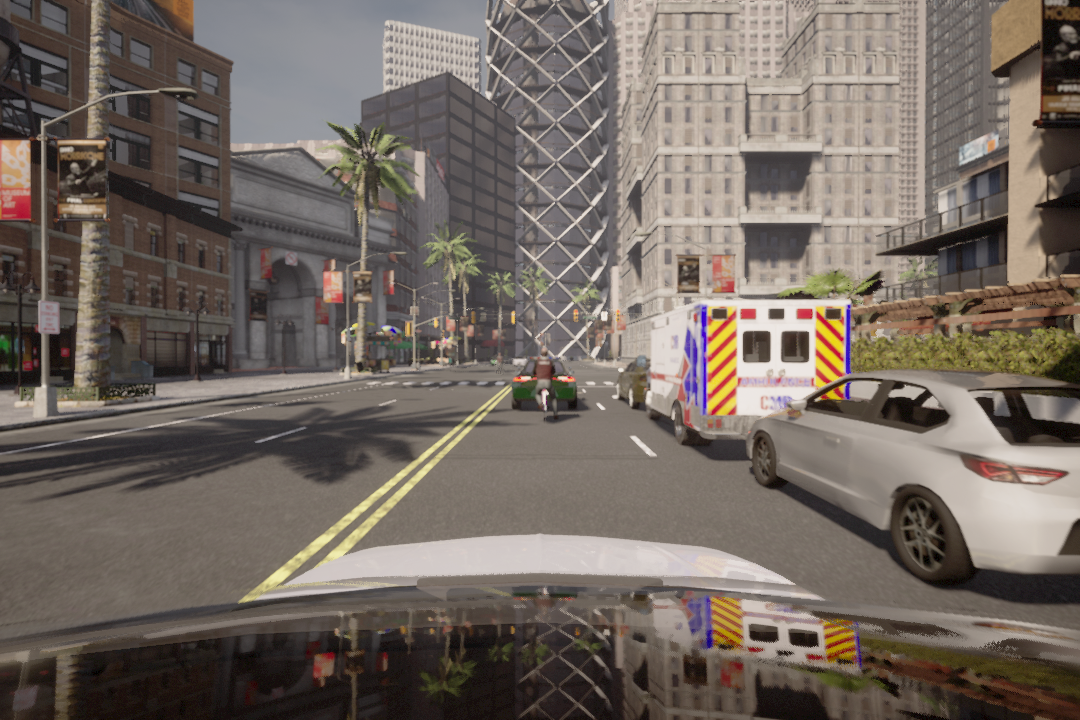walkside: (366, 377, 626, 391)
